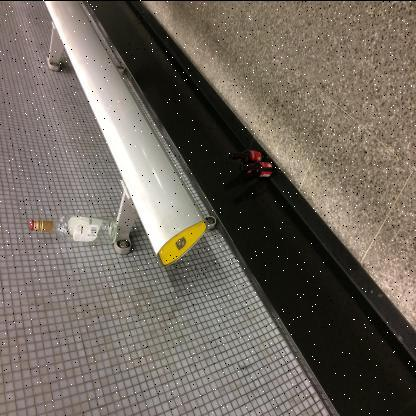glass: (30, 213, 118, 245), (239, 160, 275, 176), (229, 148, 263, 162)
